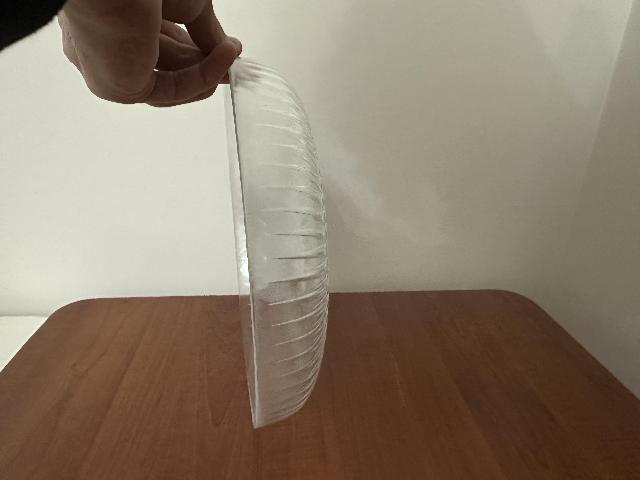Cam: (216, 60, 332, 429)
